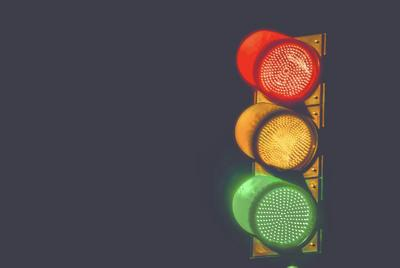International Road Signal Light: (227, 30, 325, 264)
